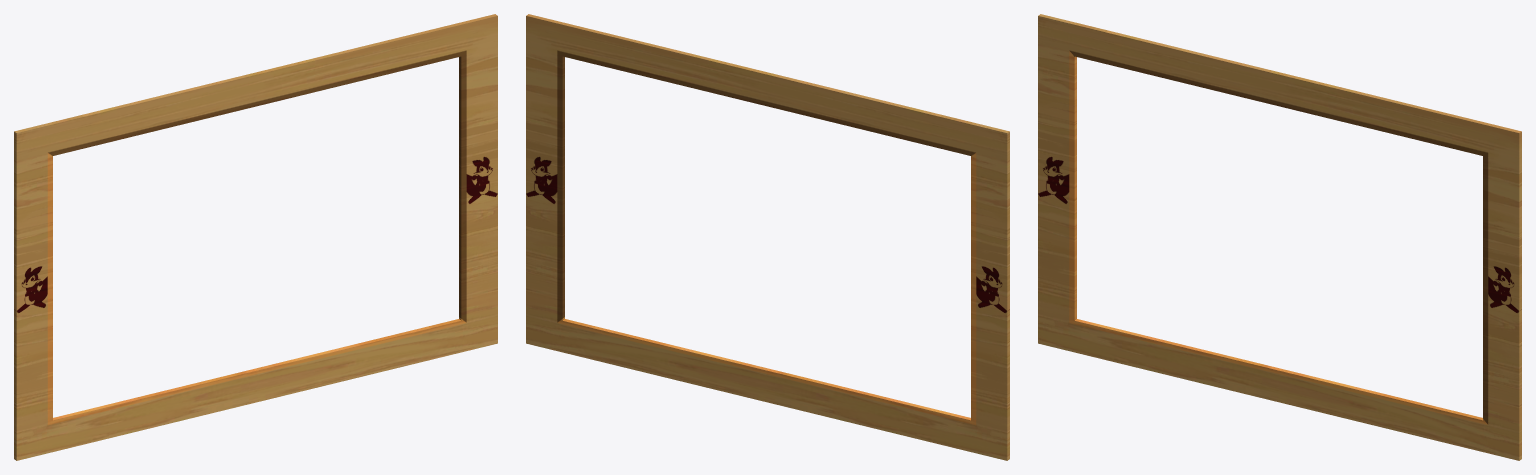
File: frame.fbx
The picture shows the model from 3 angles, left to right: view 1: azimuth 30°, elevation 25°; view 2: azimuth 150°, elevation 25°; view 3: azimuth 330°, elevation 25°; orthographic projection.
Parts seen in each view (by area): view 1: frame; view 2: frame; view 3: frame.
Boxes of the visible parts, left/top/right/bottom form: frame: left=14, top=14, right=497, bottom=460; frame: left=526, top=14, right=1009, bottom=460; frame: left=1038, top=14, right=1521, bottom=460.
Size of the model in its own units: 2759 by 1795 by 25.
